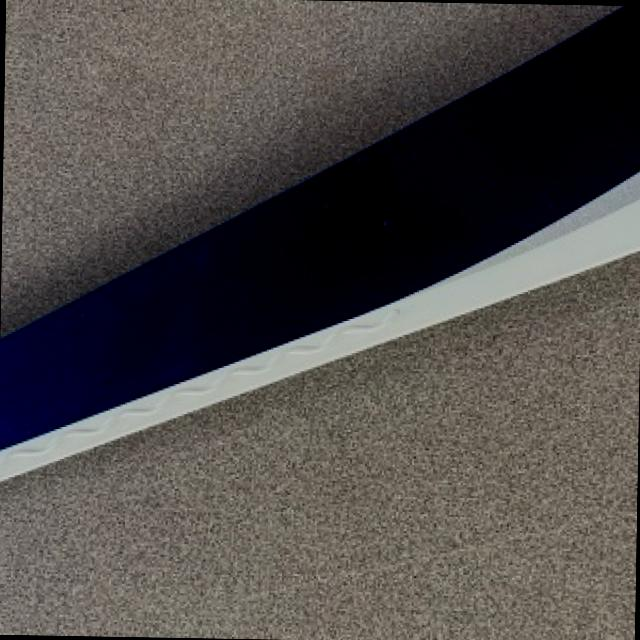healthy: (0, 5, 640, 442), (77, 202, 640, 430)
